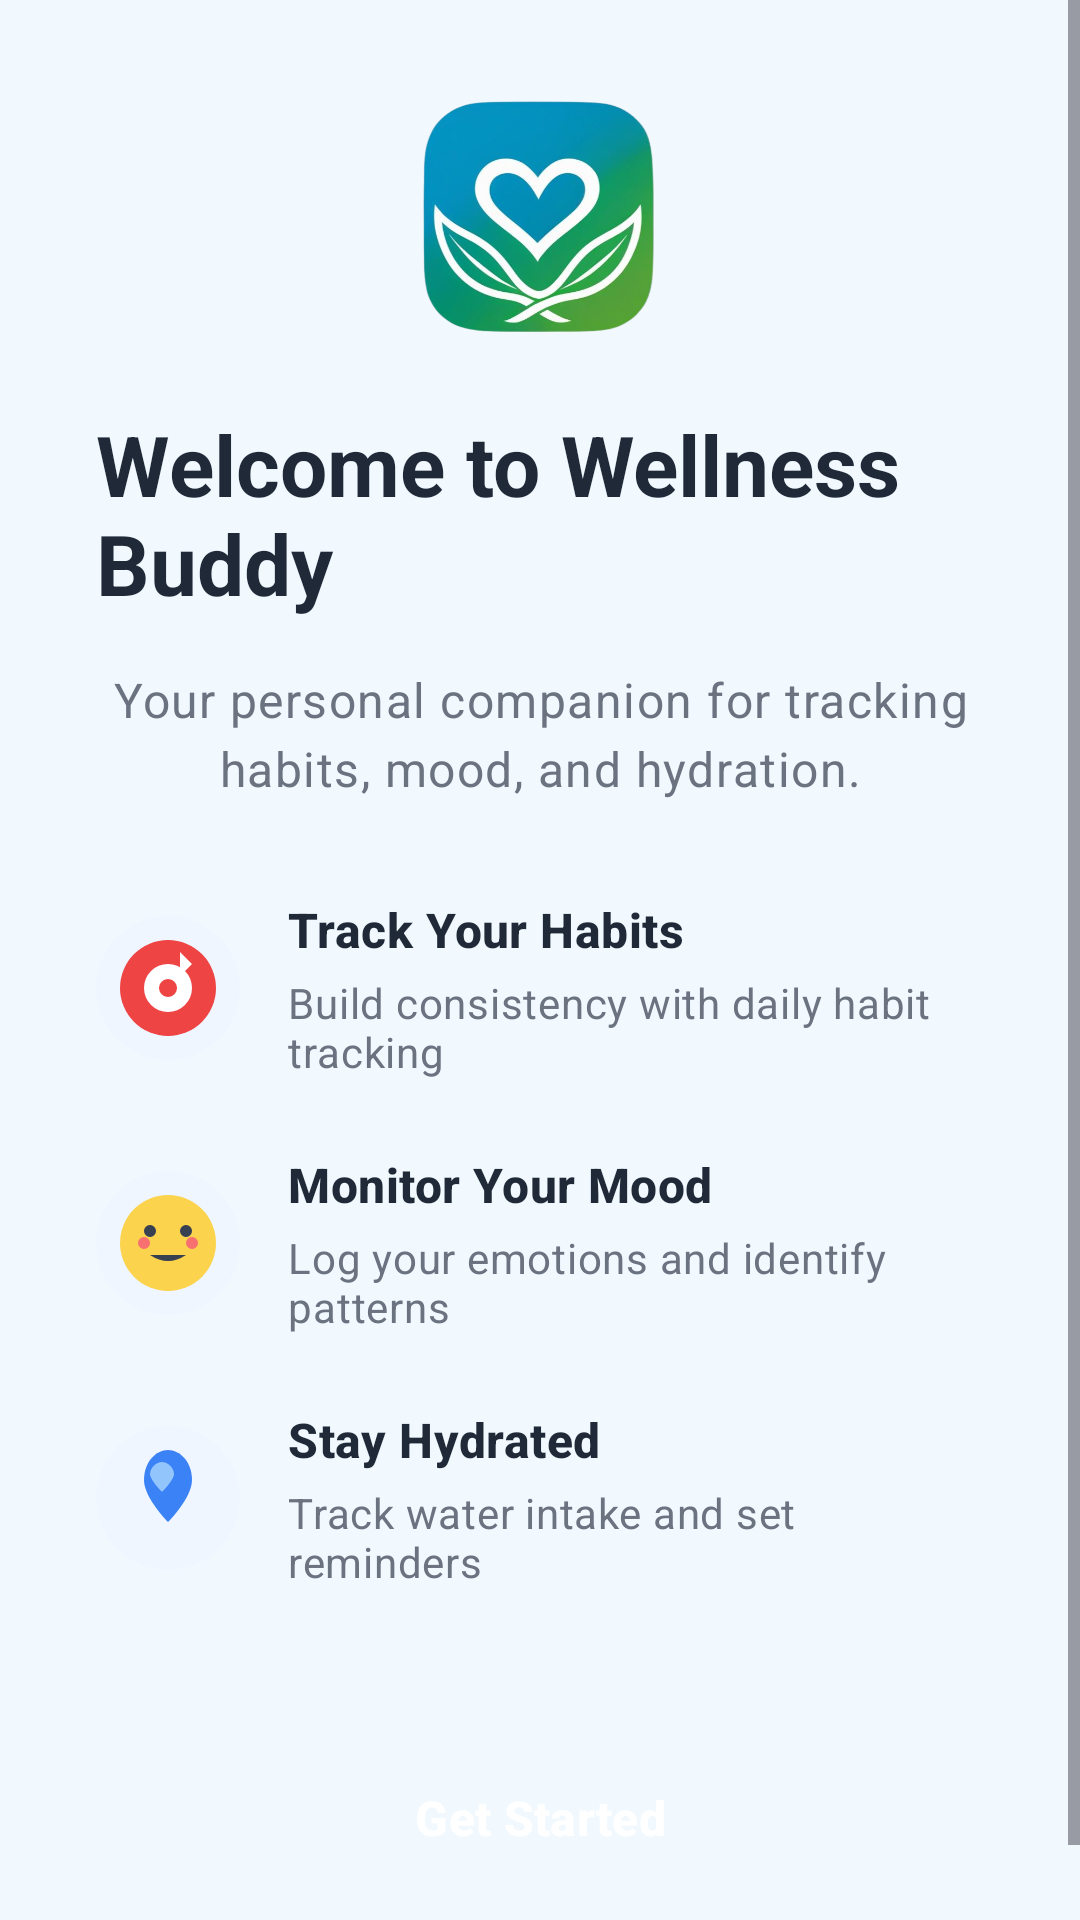

Icon click points for this 1080x1920 phone screenshot, format (x=x, y=y):
habits feature: (x=168, y=988)
hydration feature: (x=168, y=1486)
mood feature: (x=168, y=1243)
